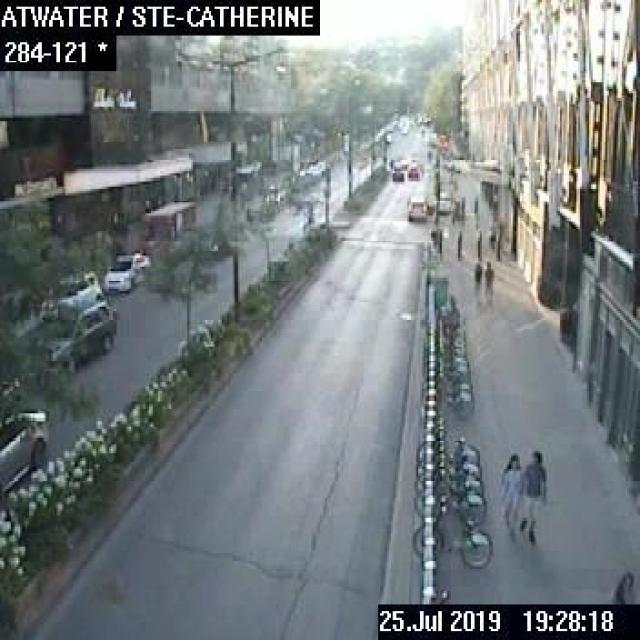pedestrian: (519, 448, 544, 540), (498, 447, 522, 534), (609, 569, 631, 602), (484, 258, 493, 298), (473, 259, 481, 294)
vehicle: (34, 304, 114, 363), (0, 409, 49, 491), (40, 268, 100, 316), (143, 199, 194, 252), (100, 251, 149, 290), (406, 193, 426, 218), (390, 164, 403, 180), (406, 163, 418, 177)
